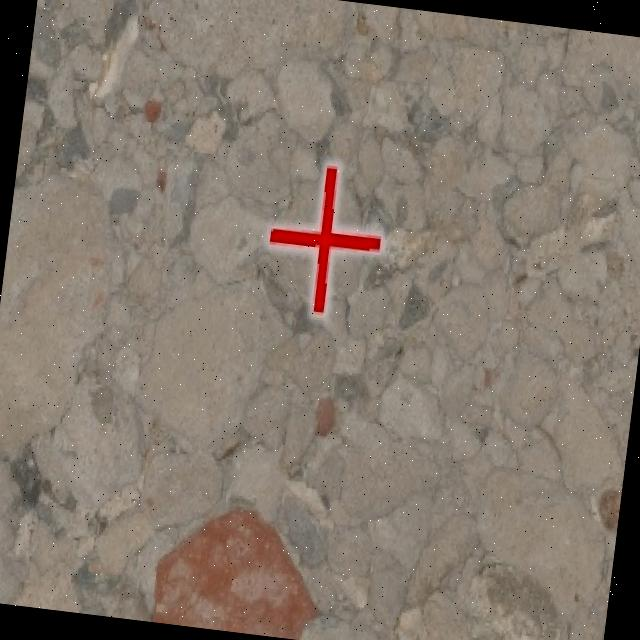x_marker: (260, 158, 390, 320)
